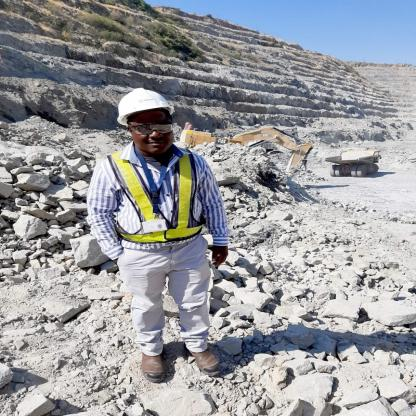person: (91, 72, 256, 394)
